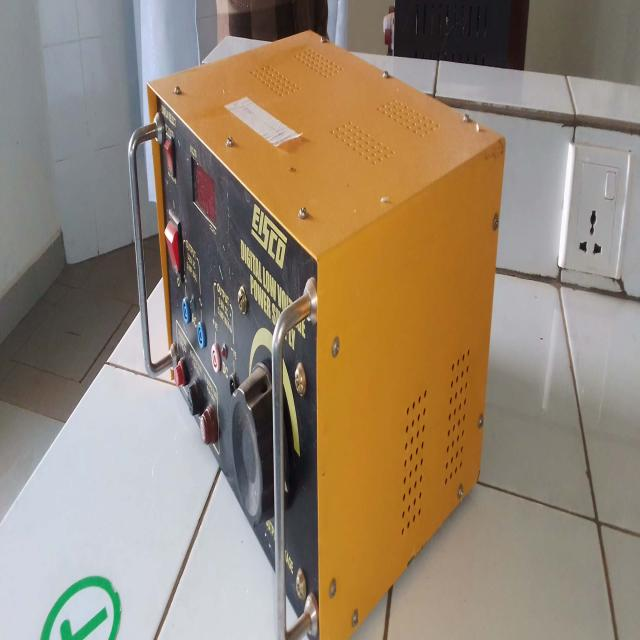Digital Power Supply: (121, 11, 508, 636)
